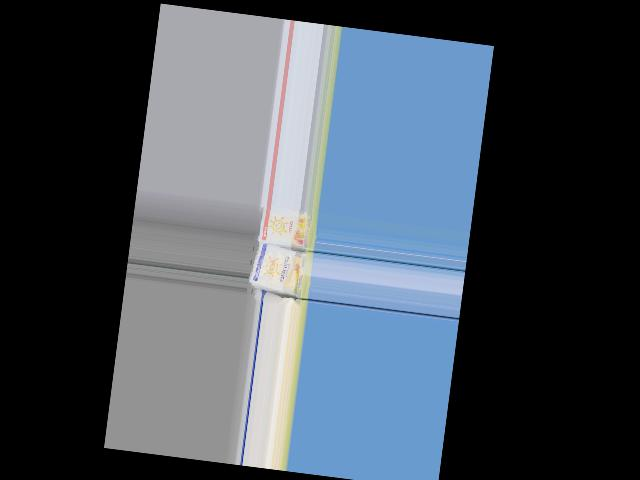cheese: (255, 204, 319, 249)
